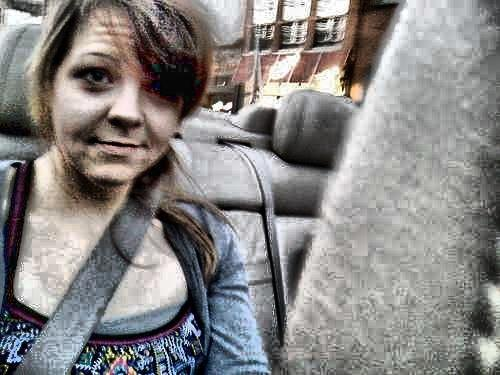seatbelt: (10, 155, 203, 361)
